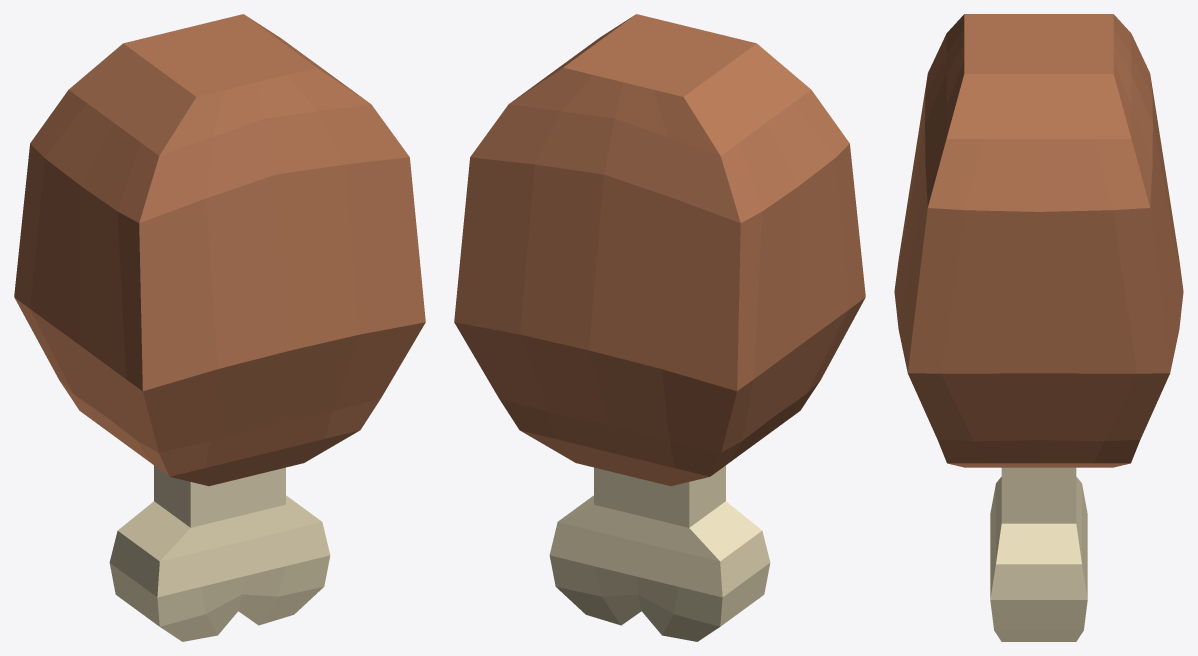
Rendered from CatChicken.fbx.
The picture shows the model from 3 angles, left to right: view 1: azimuth 30°, elevation 25°; view 2: azimuth 150°, elevation 25°; view 3: azimuth 270°, elevation 25°; orthographic projection.
Visible parts, largest first — view 1: Chicken; view 2: Chicken; view 3: Chicken.
Part boxes in pixels (bbox=[...]): Chicken: bbox=[14, 14, 425, 641]; Chicken: bbox=[454, 14, 865, 641]; Chicken: bbox=[894, 14, 1183, 641].
Bounding box in the file's own units: 114 × 216 × 98.98.
